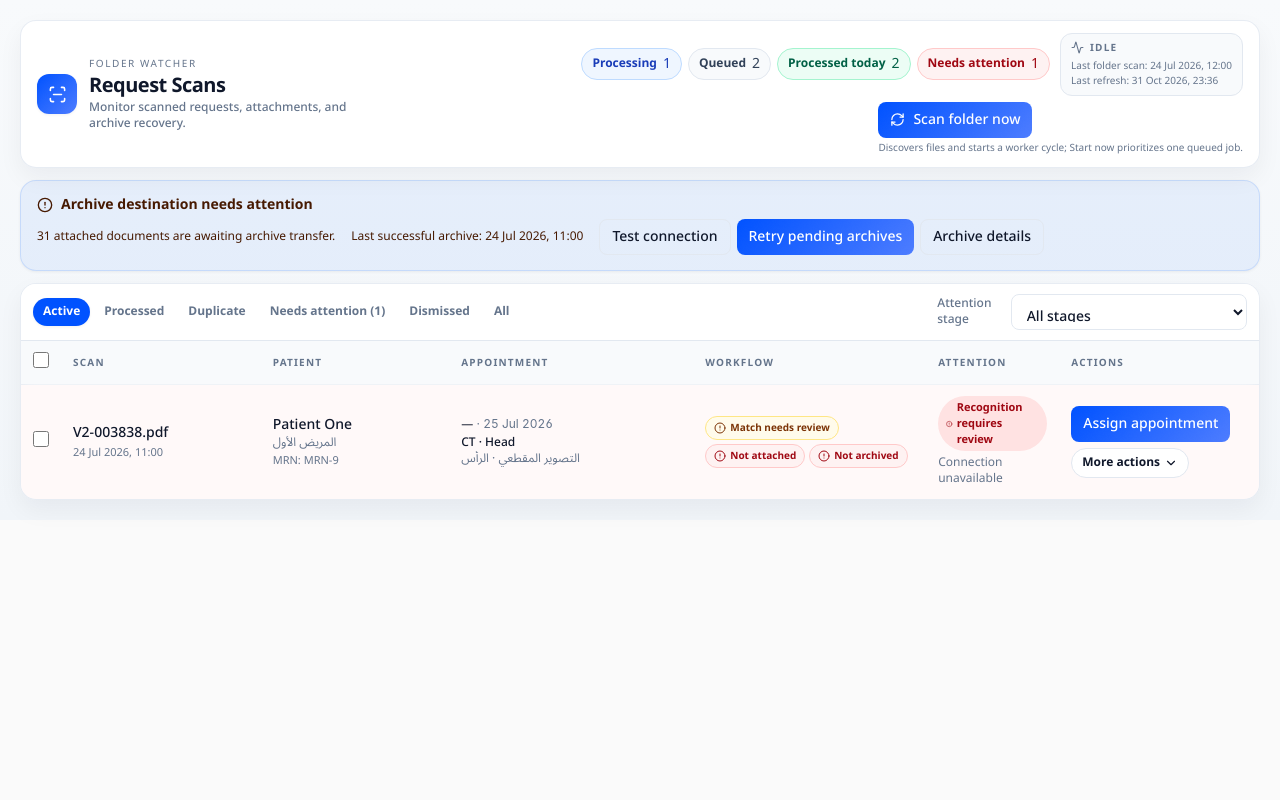
it: RequestScansPage › shows a visible error when PDF render fails and preserves the full-size link
The image size is (1280, 800).
Click the button "Assign appointment": (1151, 424) [1071,406,1230,442]
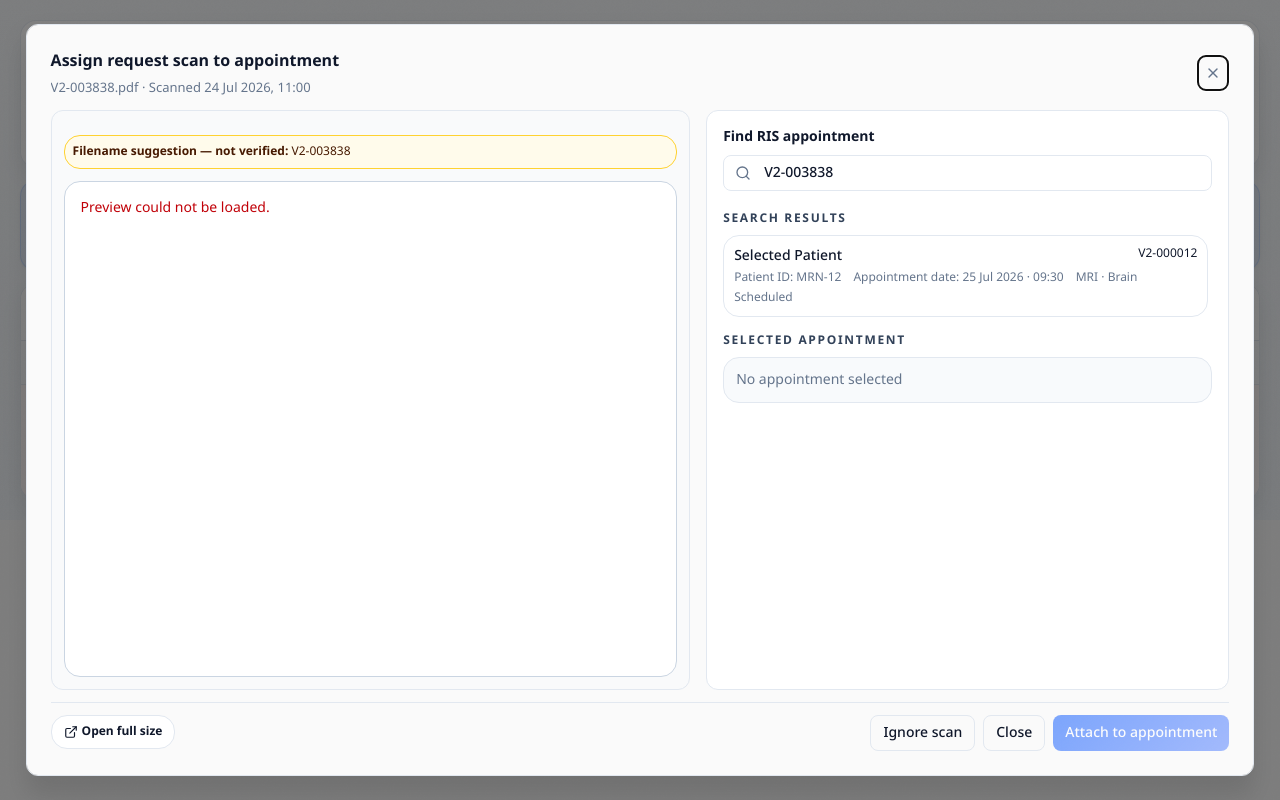
Check: the message reads "Preview could not be loaded.", box [81,193,270,222]
Check: the button "Attach to appointment" is disabled, box [1053,714,1229,751]
